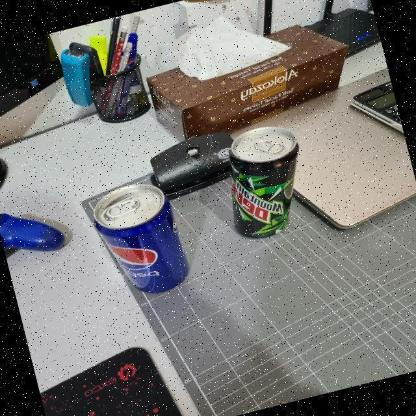Can: (95, 182, 190, 292), (230, 126, 298, 240)
